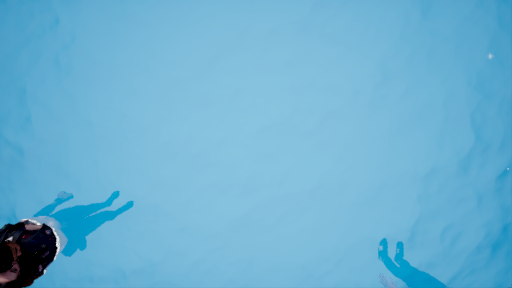person: (1, 196, 140, 288)
